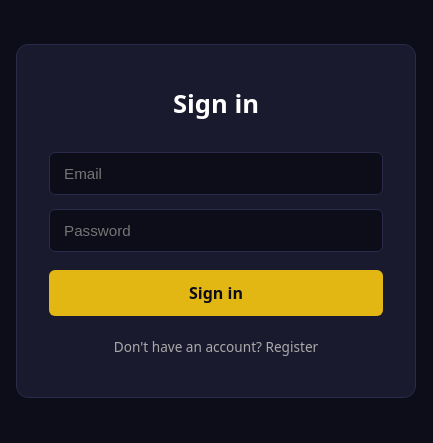
Login page › shows the registration form after clicking the toggle button
Click the button "Don't have an account? Register" at (216, 346), box [49, 336, 383, 357]
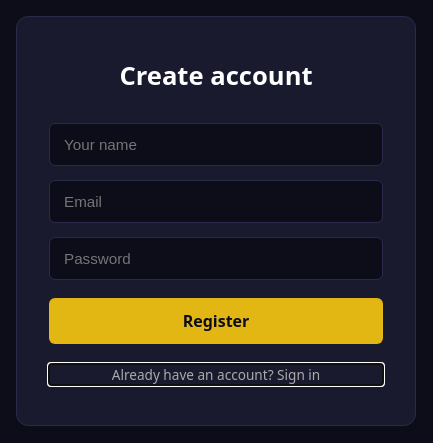
Now the heading "Create account" is shown, box [119, 58, 313, 93]
Now the field with placeholder "Your name" is shown, box [49, 123, 383, 166]
